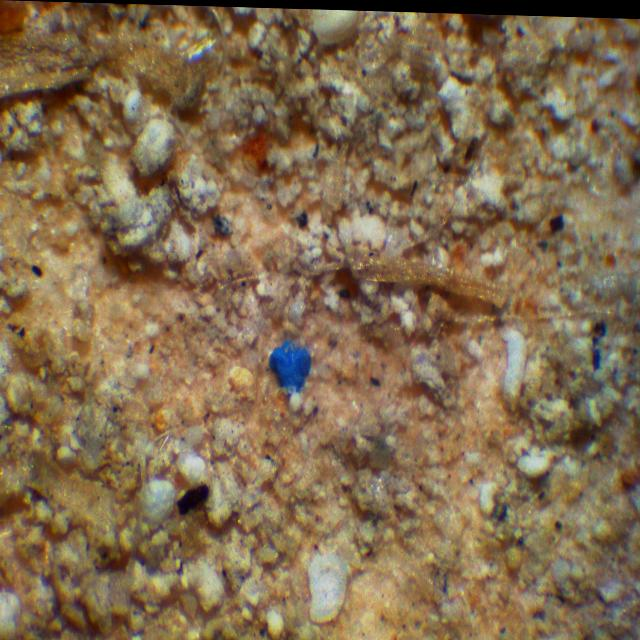microplastic: (269, 338, 312, 395)
